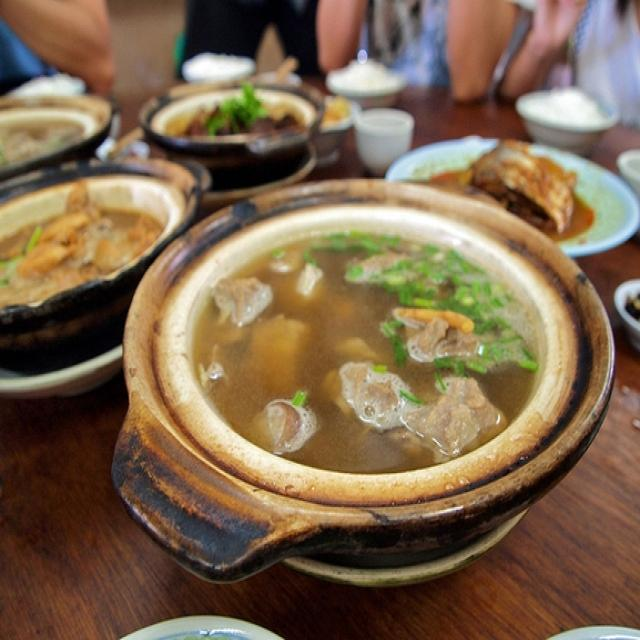汤锅炖物: (121, 170, 596, 559)
